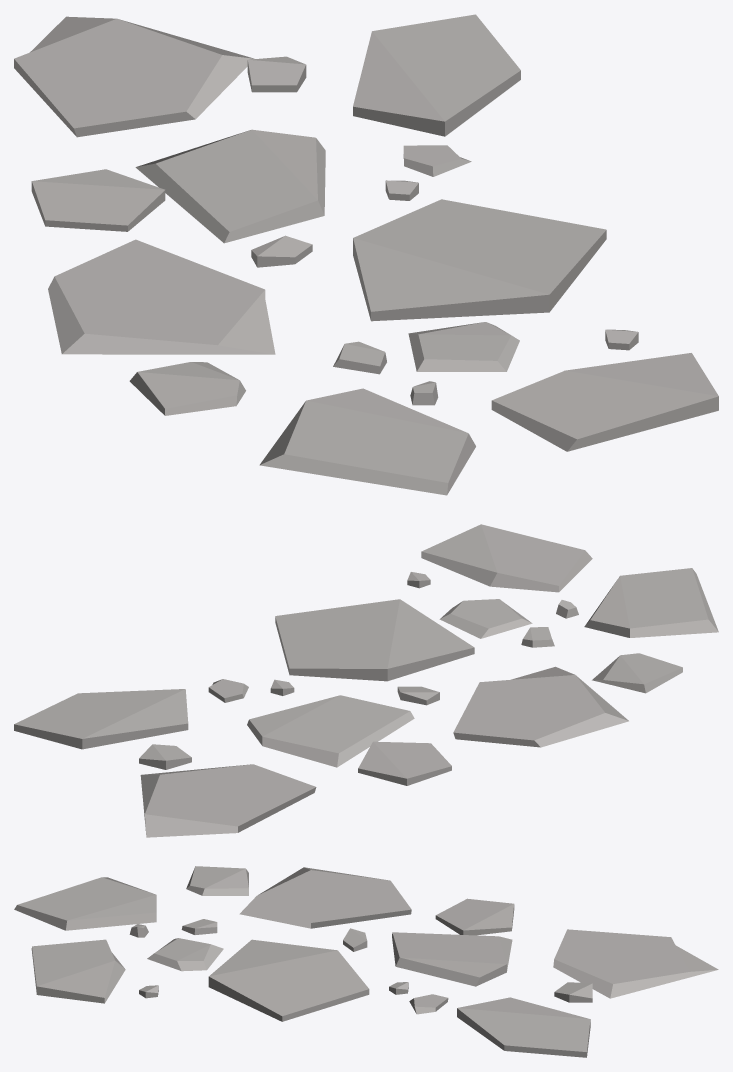
Rendered from Curved Stone Pathway.fbx.
3 renders of one model, top to bottom at view 1: azimuth 30°, elevation 25°; view 2: azimuth 150°, elevation 25°; view 3: azimuth 270°, elevation 25°, orthographic. The views are drawn at different scales.
Parts seen in each view (by area): view 1: Curved path; view 2: Curved path; view 3: Curved path.
Part boxes in pixels (x1,y1,x2,y2): Curved path: (14, 14, 718, 495); Curved path: (14, 524, 718, 837); Curved path: (14, 866, 718, 1057).
Bounding box in the file's own units: 584 × 15.87 × 913.
